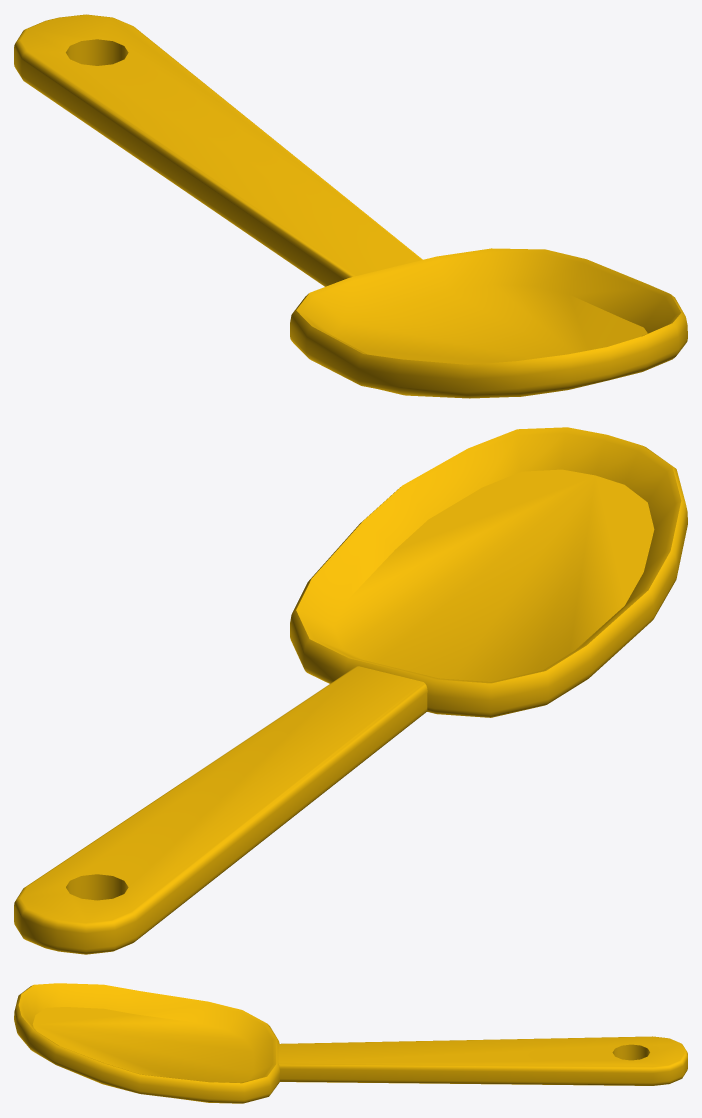
Rendered from Kitchen Tools_3.fbx.
The picture shows the model from 3 angles, top to bottom: view 1: azimuth 30°, elevation 25°; view 2: azimuth 150°, elevation 25°; view 3: azimuth 270°, elevation 25°; orthographic projection. The views are drawn at different scales.
Visible parts, largest first — view 1: Kitchen Tools_3; view 2: Kitchen Tools_3; view 3: Kitchen Tools_3.
Boxes of the visible parts, x1=… form: Kitchen Tools_3: x1=14, y1=14, x2=687, y2=398; Kitchen Tools_3: x1=14, y1=427, x2=687, y2=954; Kitchen Tools_3: x1=14, y1=983, x2=687, y2=1103.
Size of the model in its own units: 0.0973 by 0.0353 by 0.3203.
